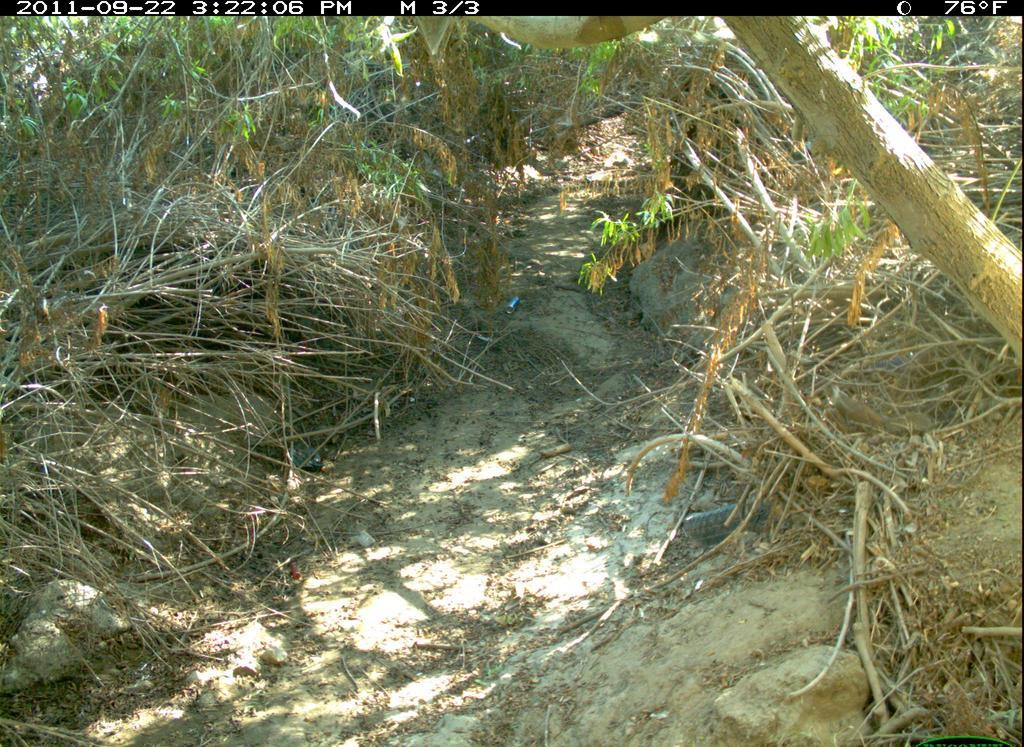squirrel: (822, 380, 959, 463)
